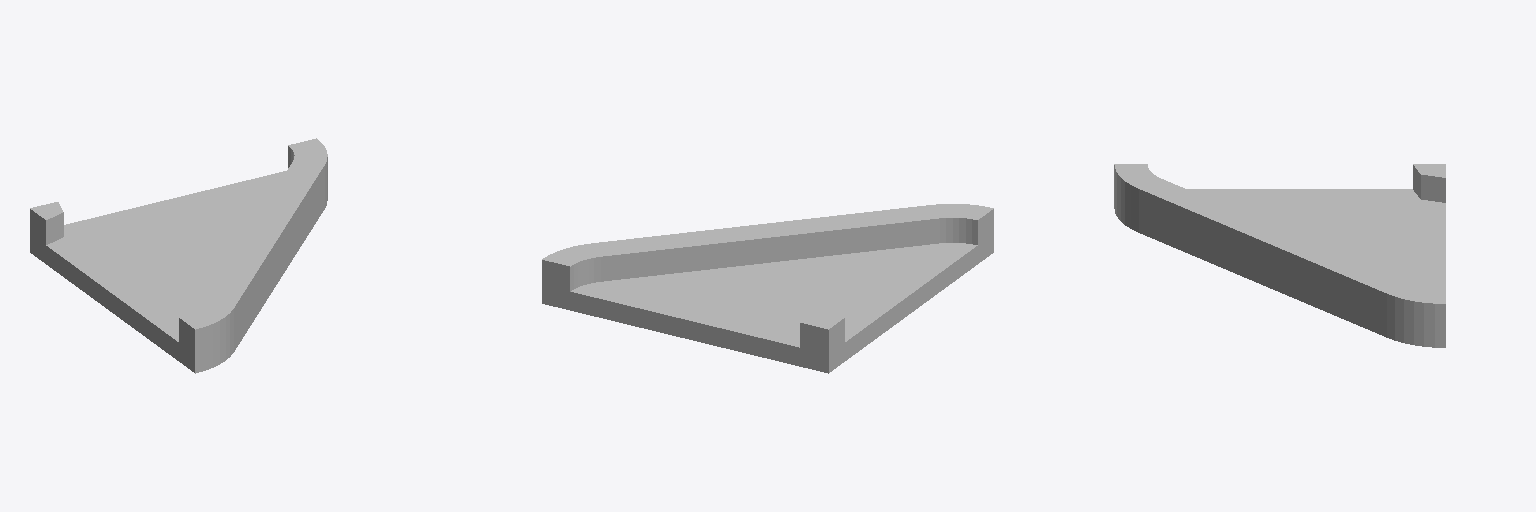
The model's file is skewCorner.obj.
3 views of the same model, side by side, from view 1: azimuth 30°, elevation 25°; view 2: azimuth 150°, elevation 25°; view 3: azimuth 270°, elevation 25° (orthographic).
Visible parts, largest first — view 1: skewCorner; view 2: skewCorner; view 3: skewCorner.
Boxes of the visible parts, box(x1,y1,x2,y2) form: skewCorner: box(30, 138, 327, 373); skewCorner: box(542, 204, 993, 373); skewCorner: box(1114, 164, 1445, 347).
Bounding box in the file's own units: 0.9999 × 0.1467 × 0.9999.